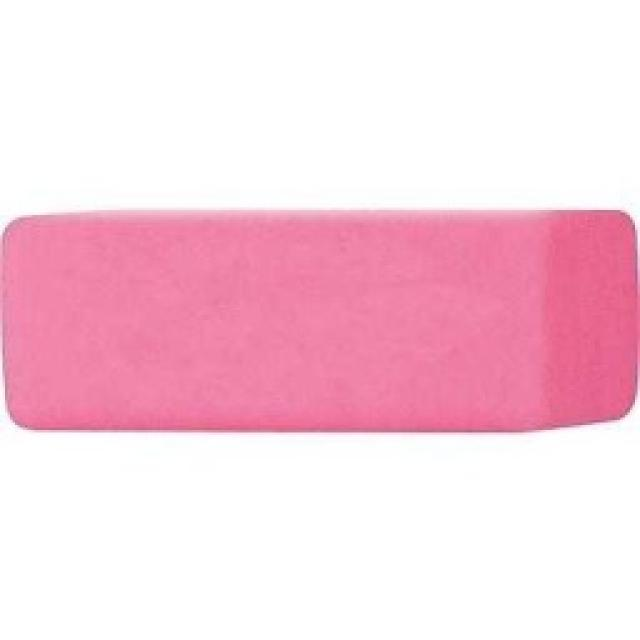Silgi: (5, 204, 640, 434)
